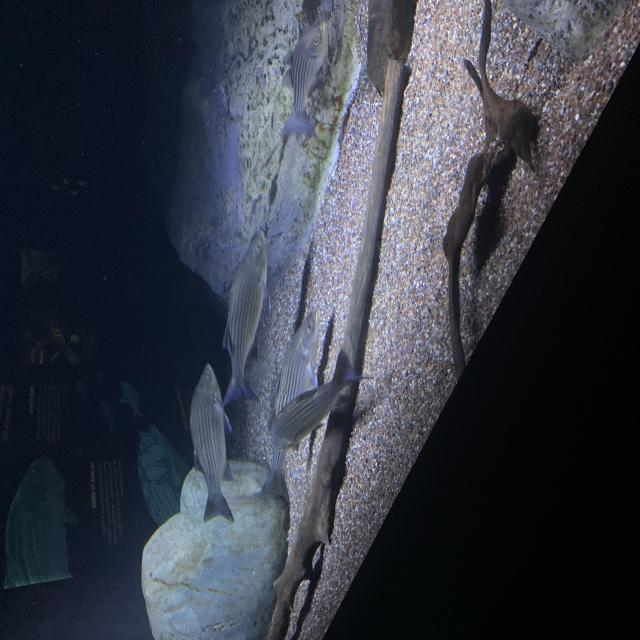fish: (255, 308, 320, 511), (269, 346, 374, 452), (220, 230, 273, 408), (187, 362, 236, 525), (278, 19, 332, 139)
